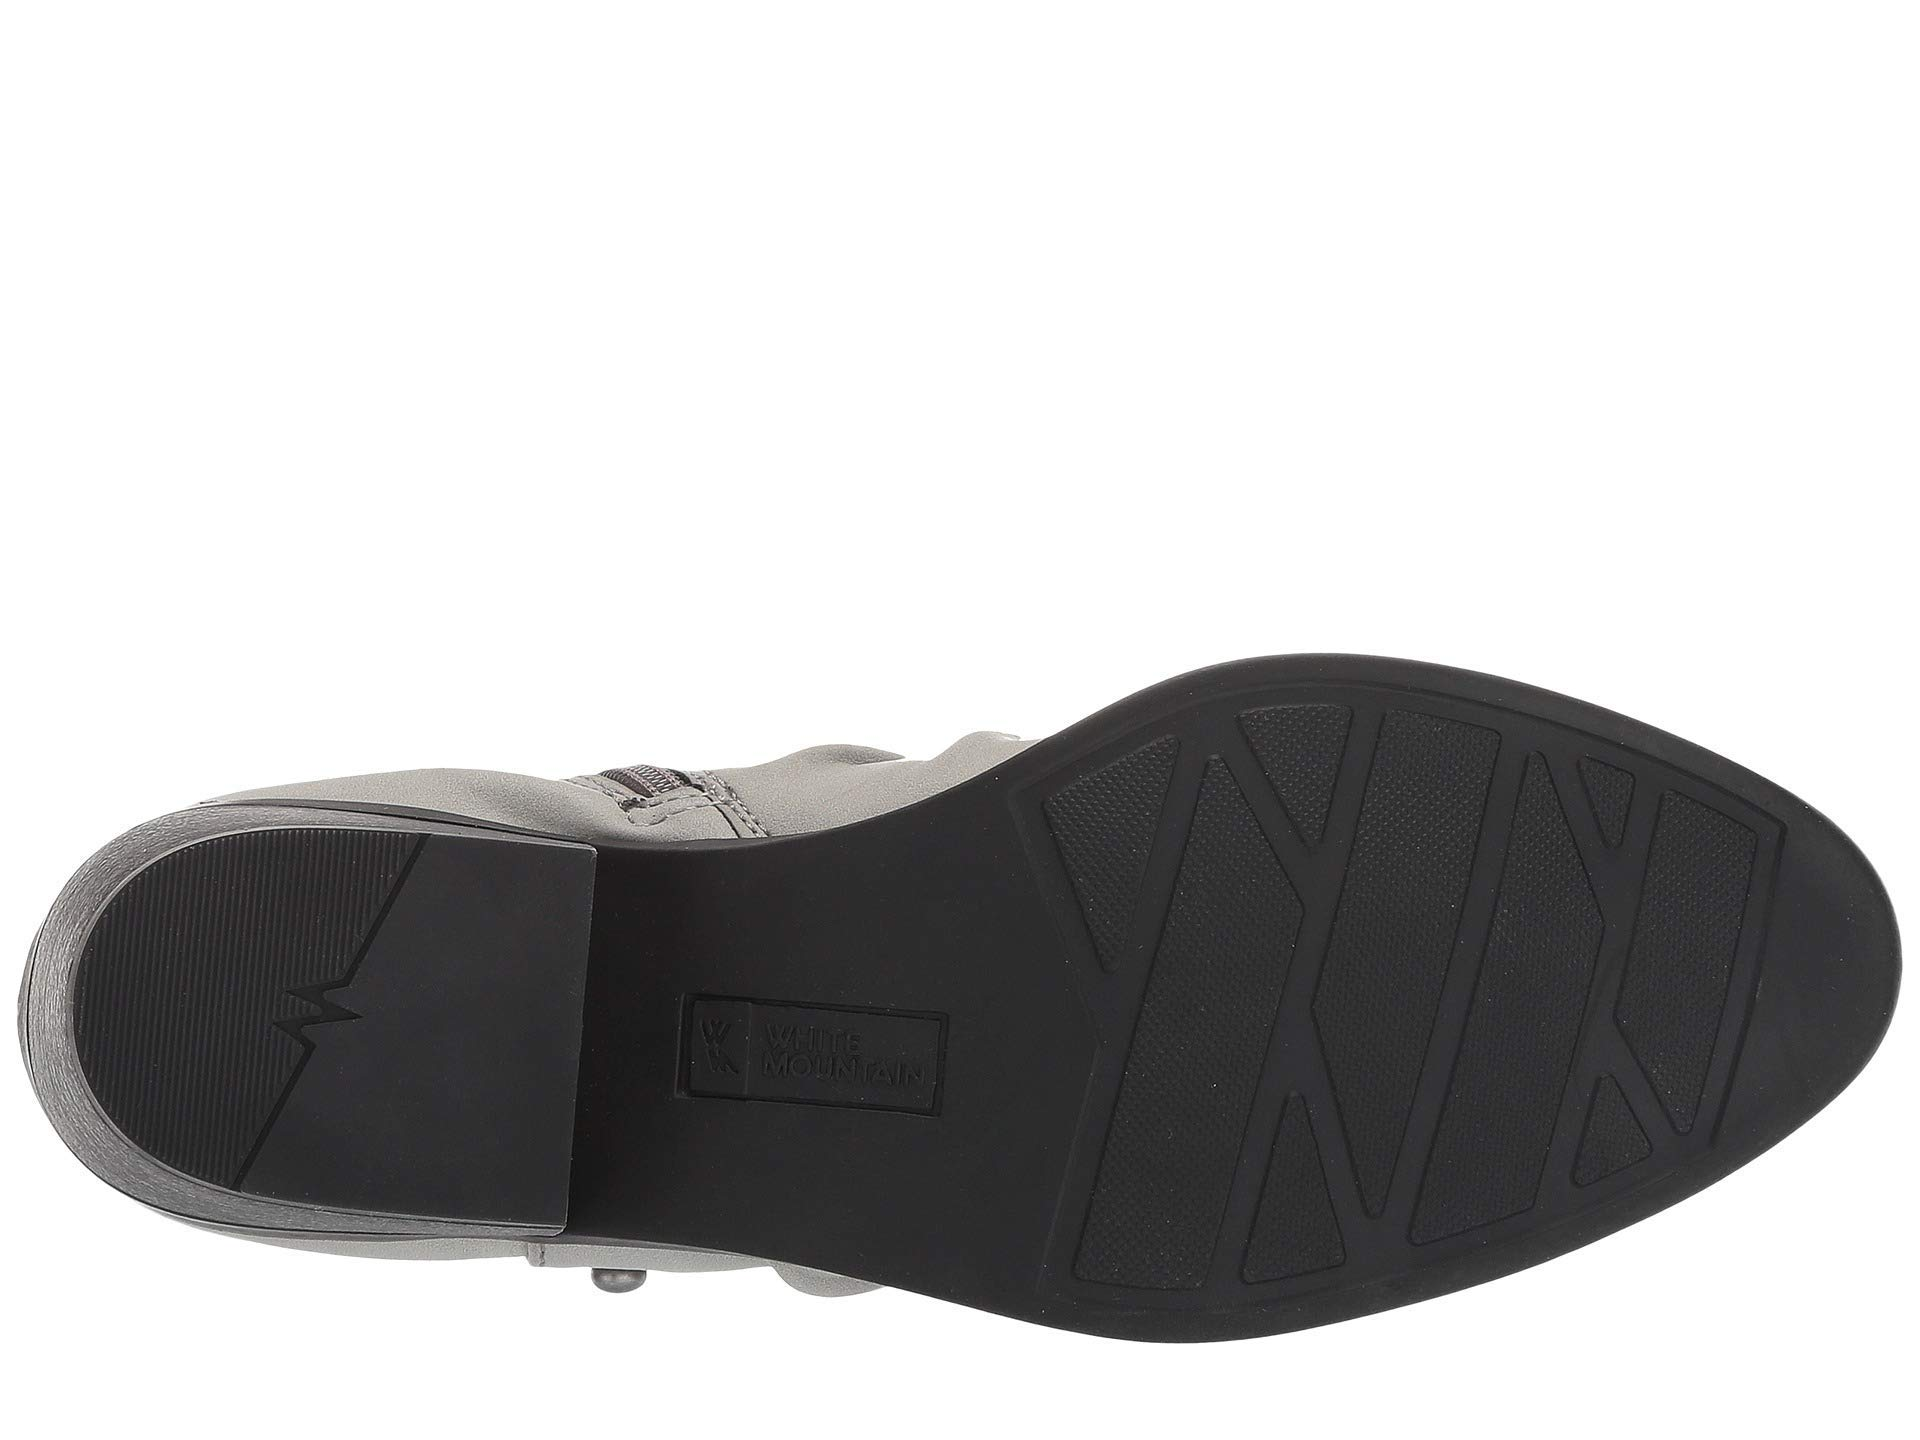chevron: (166, 905, 399, 1187)
line: (166, 905, 399, 1187)
quad: (1444, 706, 1844, 1222), (632, 926, 993, 1177)
text: (632, 926, 993, 1177)
triangle: (1444, 706, 1844, 1222), (992, 690, 1418, 1059)
